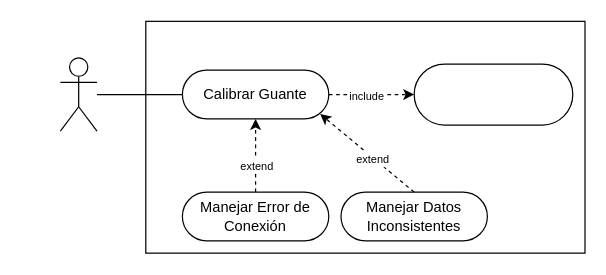
The diagram is 606 pixels wide and 275 high, and some of its shapes have lost their labels. Here are the shapes that lost their labels. From the top down, the centre of each, then its label:
[78,94]: Usuario del guante inteligente
[493,94]: Capturar Datos del Guante
